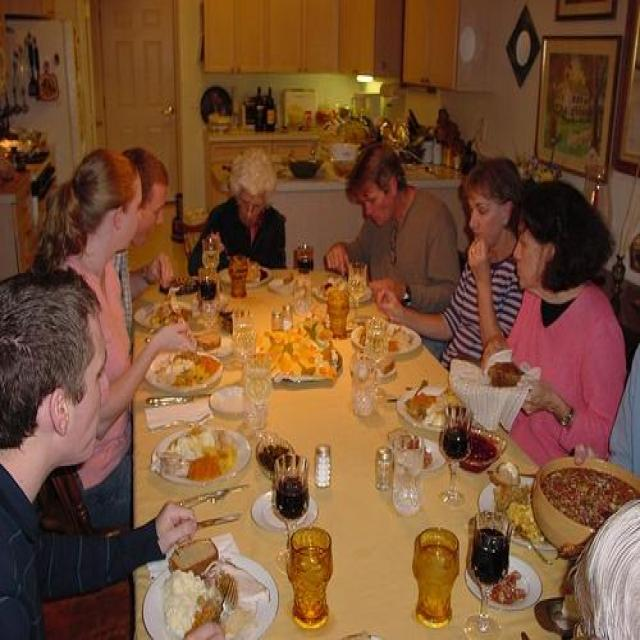No_Gloves: (524, 364, 576, 430), (368, 276, 416, 337), (151, 310, 202, 366), (152, 507, 208, 552), (466, 239, 501, 294), (322, 234, 350, 284), (140, 250, 173, 288), (200, 228, 227, 257)
